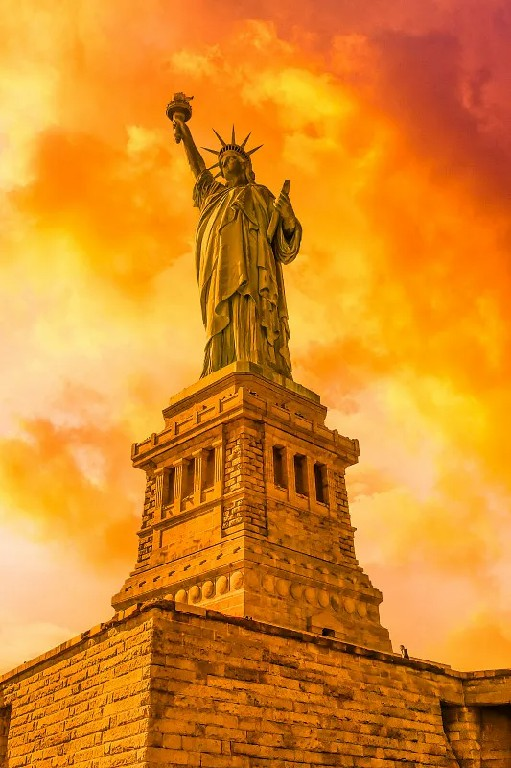SL: (111, 93, 394, 654)
